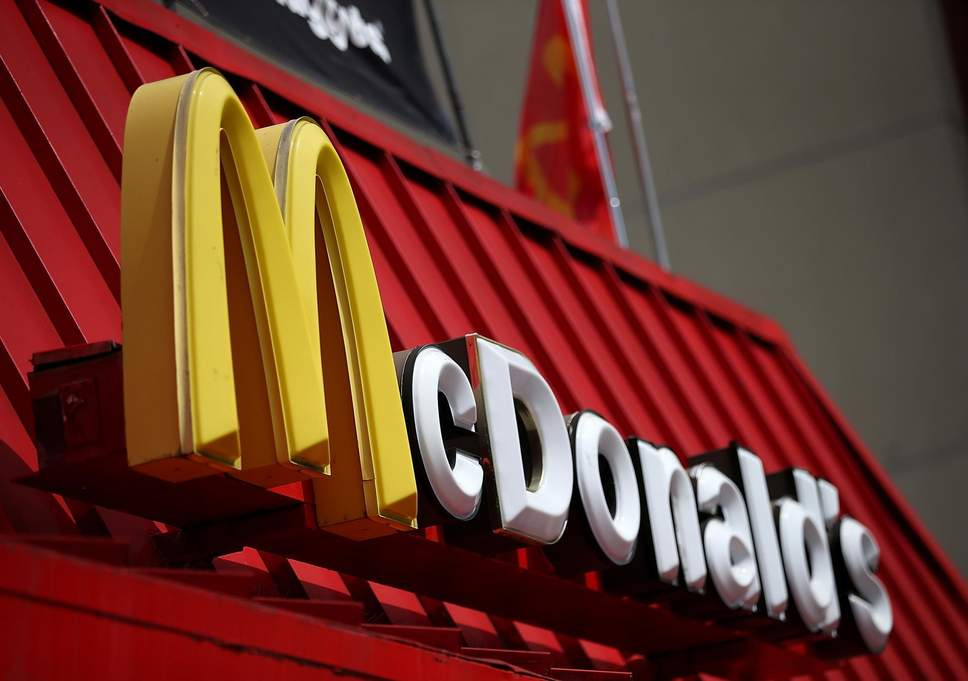mcdonalds: (120, 64, 417, 546)
